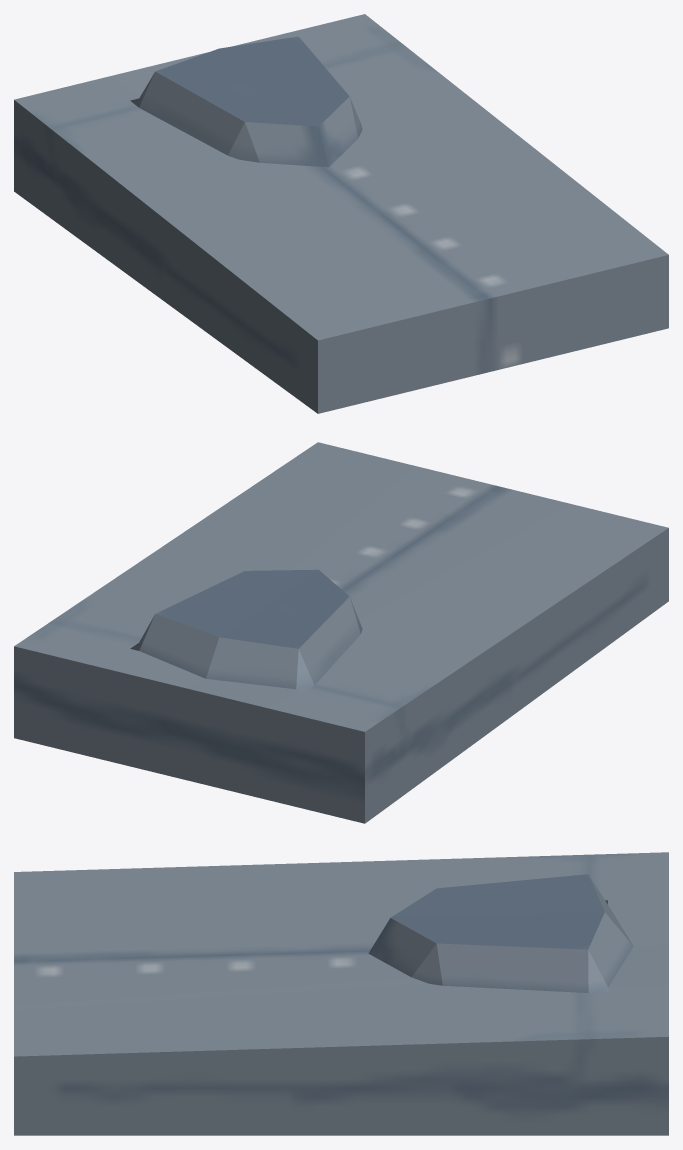
Rendered from Shirt.fbx.
3 renders of one model, top to bottom at view 1: azimuth 30°, elevation 25°; view 2: azimuth 150°, elevation 25°; view 3: azimuth 270°, elevation 25°, orthographic. The views are drawn at different scales.
Parts seen in each view (by area): view 1: Shirt; view 2: Shirt; view 3: Shirt.
Boxes of the visible parts, x1,y1,x2,y2 form: Shirt: (14, 14, 668, 413); Shirt: (14, 442, 668, 823); Shirt: (14, 852, 668, 1135).
Size of what is drawn, in the model's own units: 2 by 0.665 by 3.
